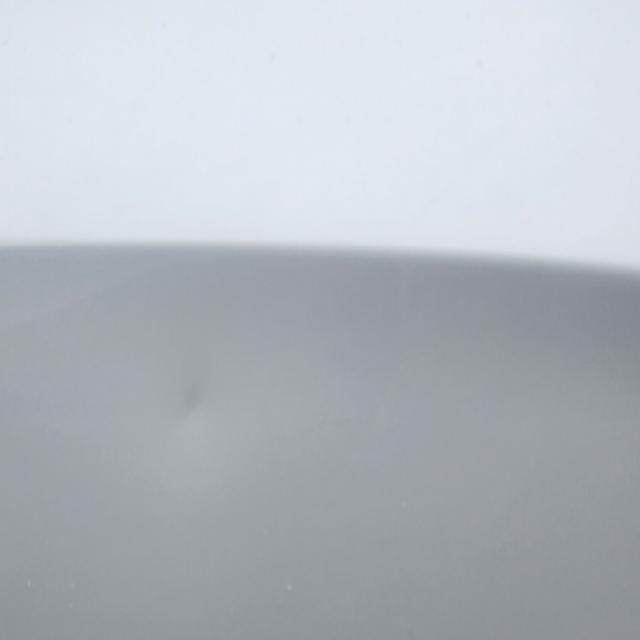dents: (155, 367, 234, 460)
